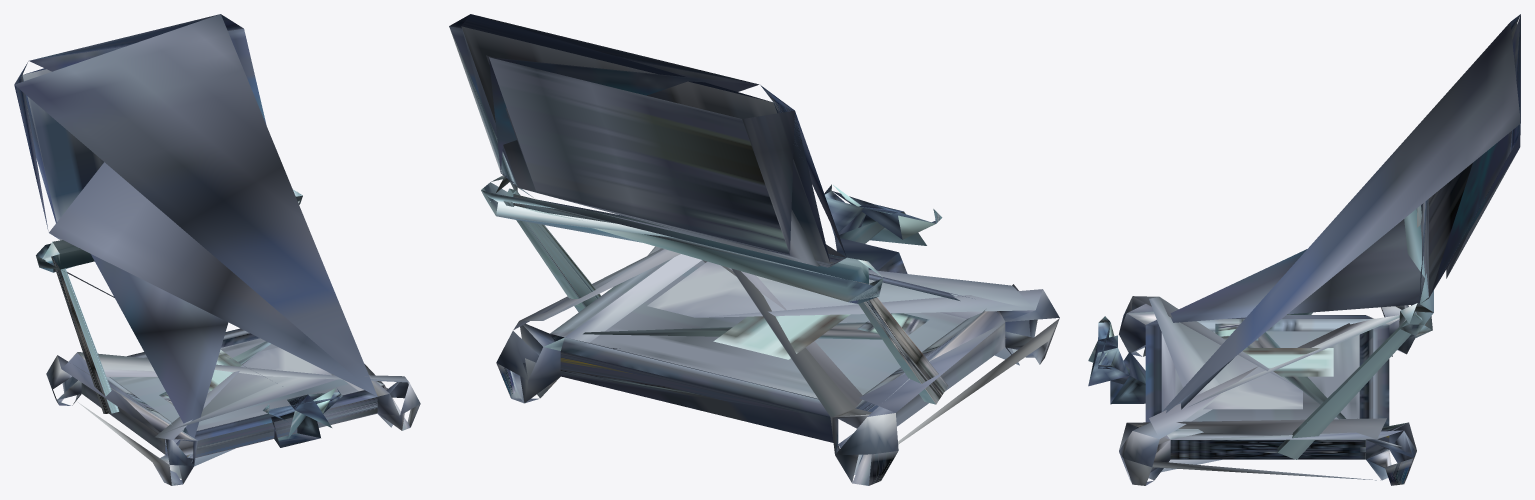
The model's file is eqp_tool_viewscreen_s01_l1.fbx.
3 views of the same model, side by side, from view 1: azimuth 30°, elevation 25°; view 2: azimuth 150°, elevation 25°; view 3: azimuth 270°, elevation 25° (orthographic). The views are drawn at different scales.
Parts seen in each view (by area): view 1: mesh_node; view 2: mesh_node; view 3: mesh_node.
Boxes of the visible parts, x1=… form: mesh_node: x1=14, y1=14, x2=420, y2=485; mesh_node: x1=449, y1=14, x2=1059, y2=485; mesh_node: x1=1088, y1=14, x2=1520, y2=485.
Size of the model in its own units: 0.4484 by 0.4887 by 0.5511.
